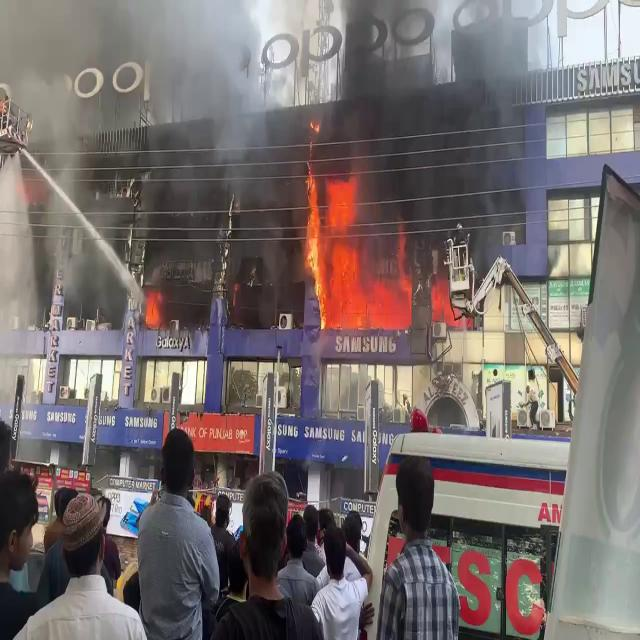Fire: (326, 186, 380, 333), (324, 245, 412, 332), (432, 265, 474, 347), (306, 159, 322, 297), (142, 290, 166, 330), (393, 228, 410, 283), (310, 119, 320, 142)
Smoke: (147, 41, 278, 192), (338, 0, 441, 158), (454, 14, 530, 190), (12, 35, 96, 180)
